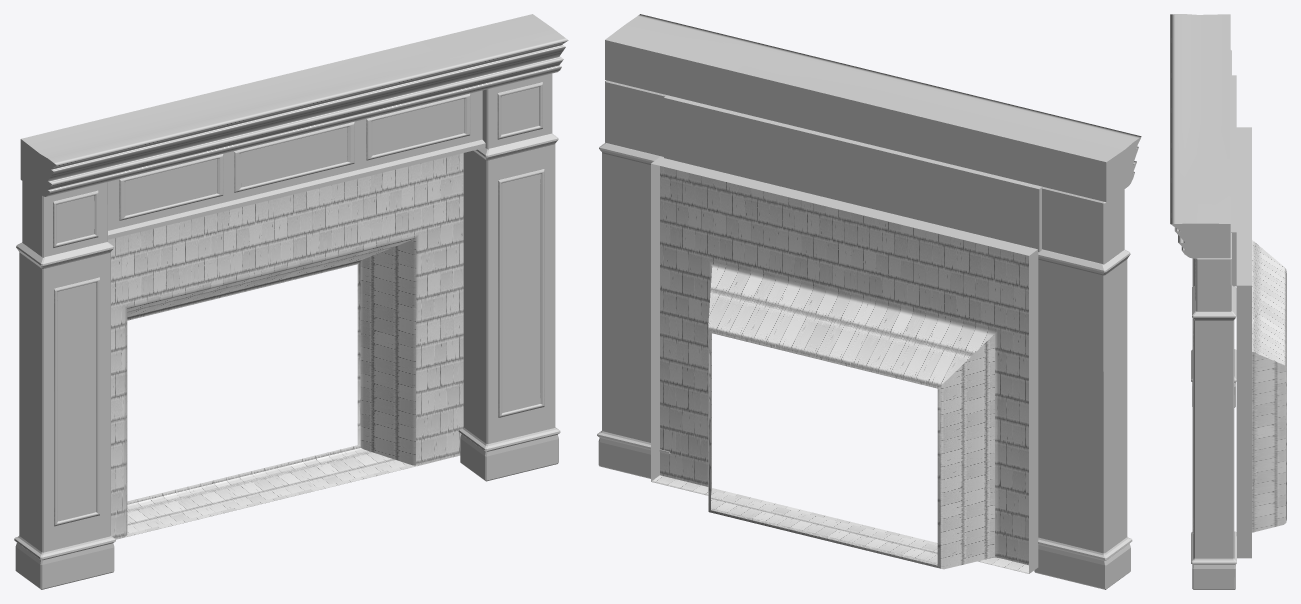
Rendered from Fire_Place.fbx.
3 renders of one model, left to right at view 1: azimuth 30°, elevation 25°; view 2: azimuth 150°, elevation 25°; view 3: azimuth 270°, elevation 25°, orthographic. The views are drawn at different scales.
Parts seen in each view (by area): view 1: Fireplace; view 2: Fireplace; view 3: Fireplace.
Boxes of the visible parts, x1,y1,x2,y2 form: Fireplace: [14, 14, 568, 589]; Fireplace: [597, 14, 1141, 589]; Fireplace: [1170, 14, 1286, 589].
Bounding box in the file's own units: 13.33 × 10.65 × 3.09.
